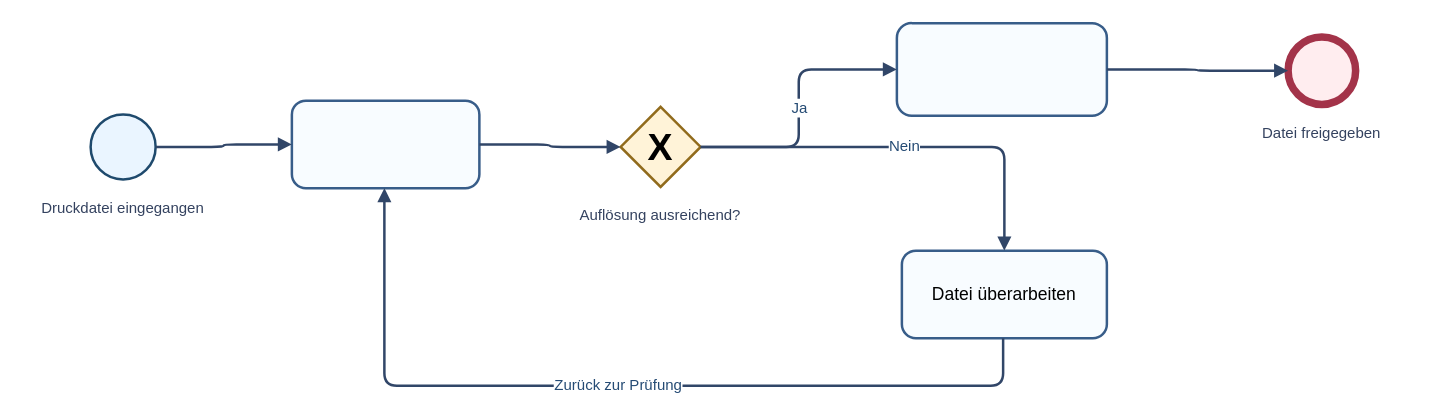
Image size: 1445x418. Some labels were removed from this diagram. Each missing label, with the centre of its shape:
"Auflösung prüfen" belongs at (385,144).
"Datei freigeben" belongs at (1001,68).
